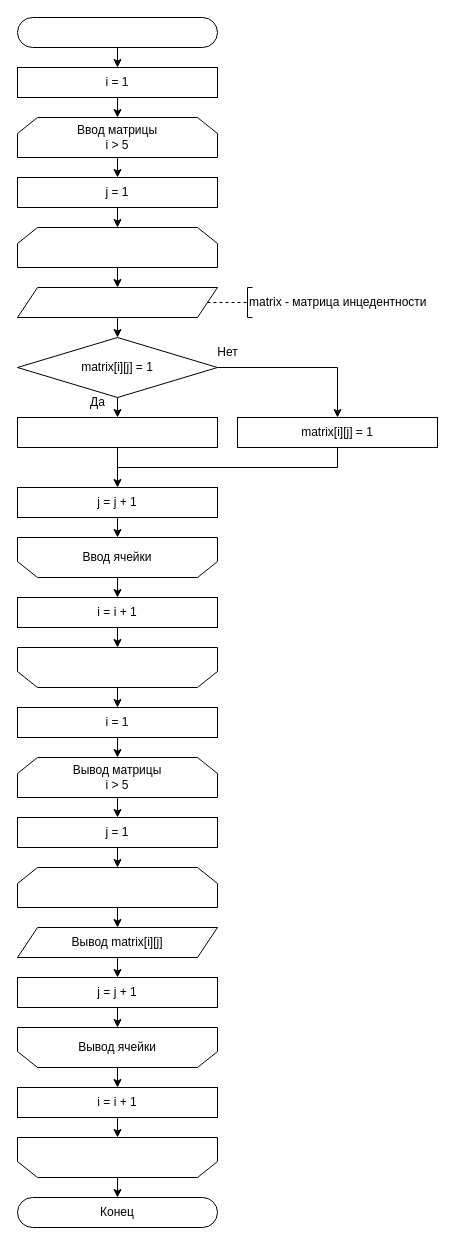
The diagram is 455 pixels wide and 1245 high, and some of its shapes have lost their labels. The centre of each missing label's shape, as x and y in pixels:
matrix[i][j] = 0: the point at 117,432
Ввод matrix[i][j]: the point at 117,302
Ввод матрицы: the point at 117,667
Ввод ячейки i > 5: the point at 117,247
Вывод матрицы: the point at 117,1157
Вывод ячейки i > 5: the point at 117,887
Начало: the point at 117,32
